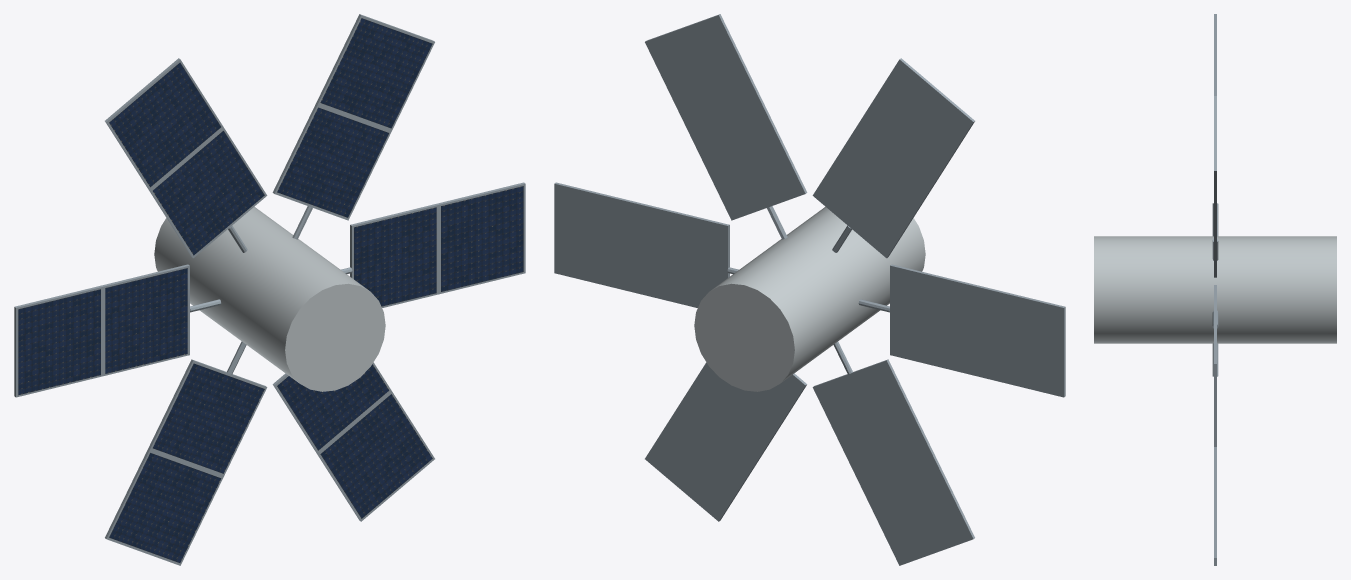
Rendered from ref-molniya-3-10455.glb.
3 renders of one model, left to right at view 1: azimuth 30°, elevation 25°; view 2: azimuth 150°, elevation 25°; view 3: azimuth 270°, elevation 25°, orthographic. The views are drawn at different scales.
Parts seen in each view (by area): view 1: Photovoltaic laminates (×12), Spacecraft body, Array frame (×12); view 2: Array frame (×12), Spacecraft body; view 3: Spacecraft body, Array frame (×2).
Boxes of the visible parts, x1,y1,x2,y2 form: Photovoltaic laminates (×12): [18, 18, 523, 562]; Spacecraft body: [154, 207, 385, 391]; Array frame (×12): [14, 14, 525, 565]; Array frame (×12): [554, 14, 1065, 565]; Spacecraft body: [694, 207, 925, 391]; Spacecraft body: [1094, 236, 1336, 343]; Array frame (×2): [1214, 96, 1216, 446].
Bounding box in the file's own units: 8.1 × 7.69 × 3.6.
Materials: 3 (1 with a texture image).
